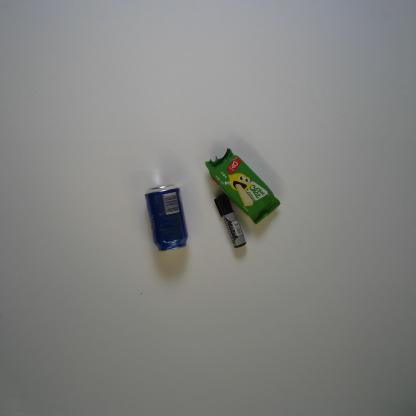Dessert: (204, 147, 281, 226)
Drink: (143, 182, 189, 252)
Stationery: (213, 194, 247, 249)
